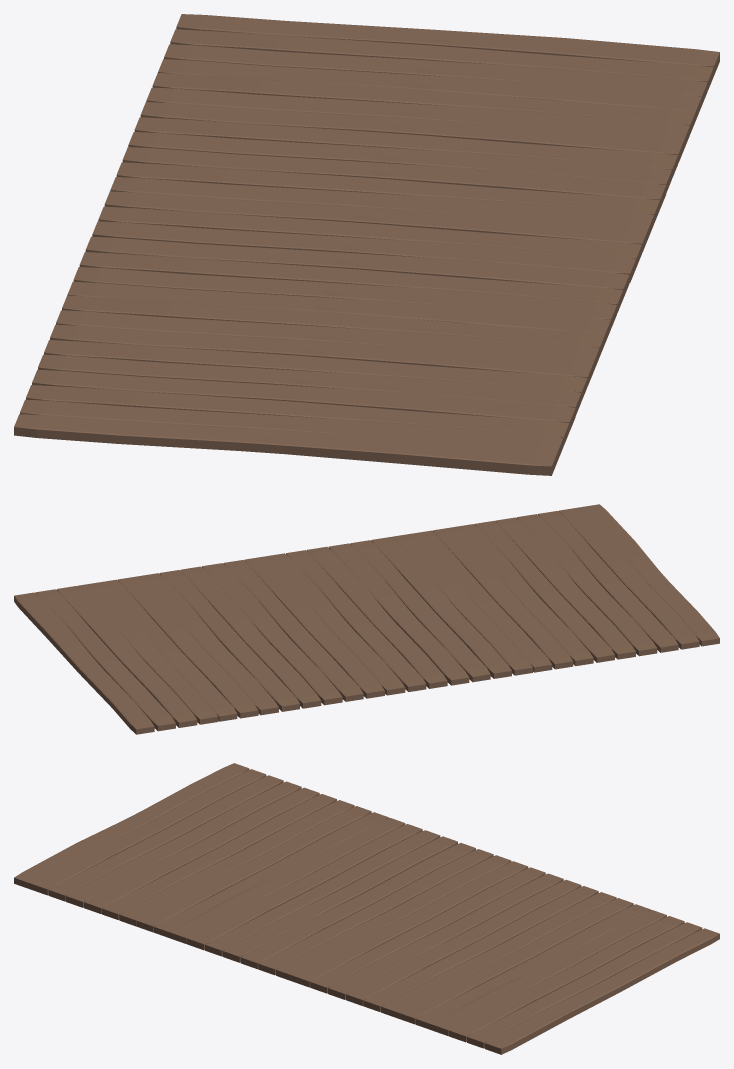
Rendered from Floor1.fbx.
3 renders of one model, top to bottom at view 1: azimuth 30°, elevation 25°; view 2: azimuth 150°, elevation 25°; view 3: azimuth 270°, elevation 25°, orthographic. The views are drawn at different scales.
Parts seen in each view (by area): view 1: Floor; view 2: Floor; view 3: Floor.
Boxes of the visible parts, bbox=[...] form: Floor: bbox=[14, 14, 719, 475]; Floor: bbox=[14, 504, 719, 734]; Floor: bbox=[14, 763, 719, 1054].
Bounding box in the file's own units: 1424 × 18.75 × 1493.
